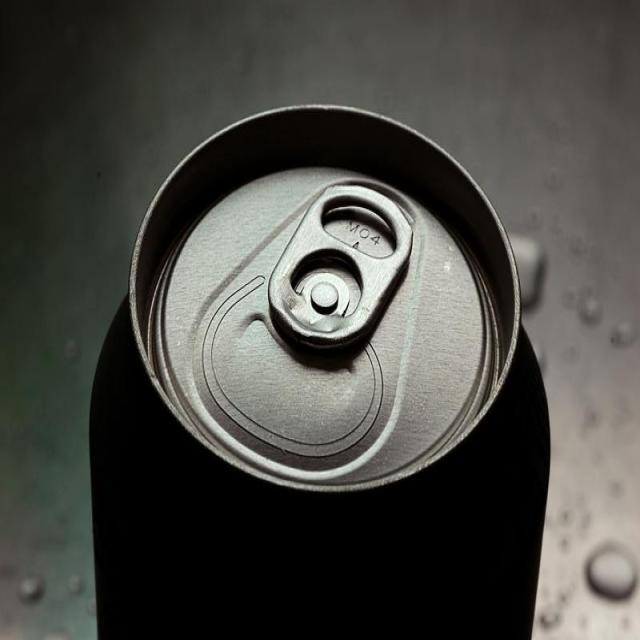can: (93, 98, 552, 640)
pop tab: (269, 182, 415, 368)
